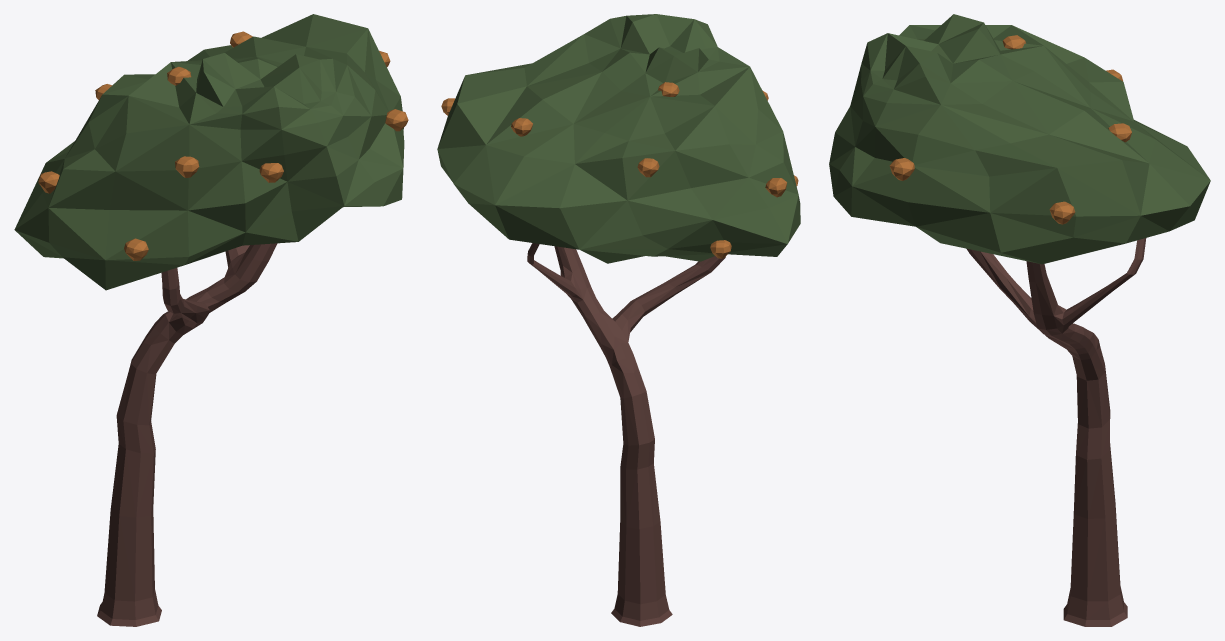
Rendered from tree_orange.s4.glb.
3 renders of one model, left to right at view 1: azimuth 30°, elevation 25°; view 2: azimuth 150°, elevation 25°; view 3: azimuth 270°, elevation 25°, orthographic. The views are drawn at different scales.
Bounding box in the file's own units: 0.6745 × 1 × 0.5714.
